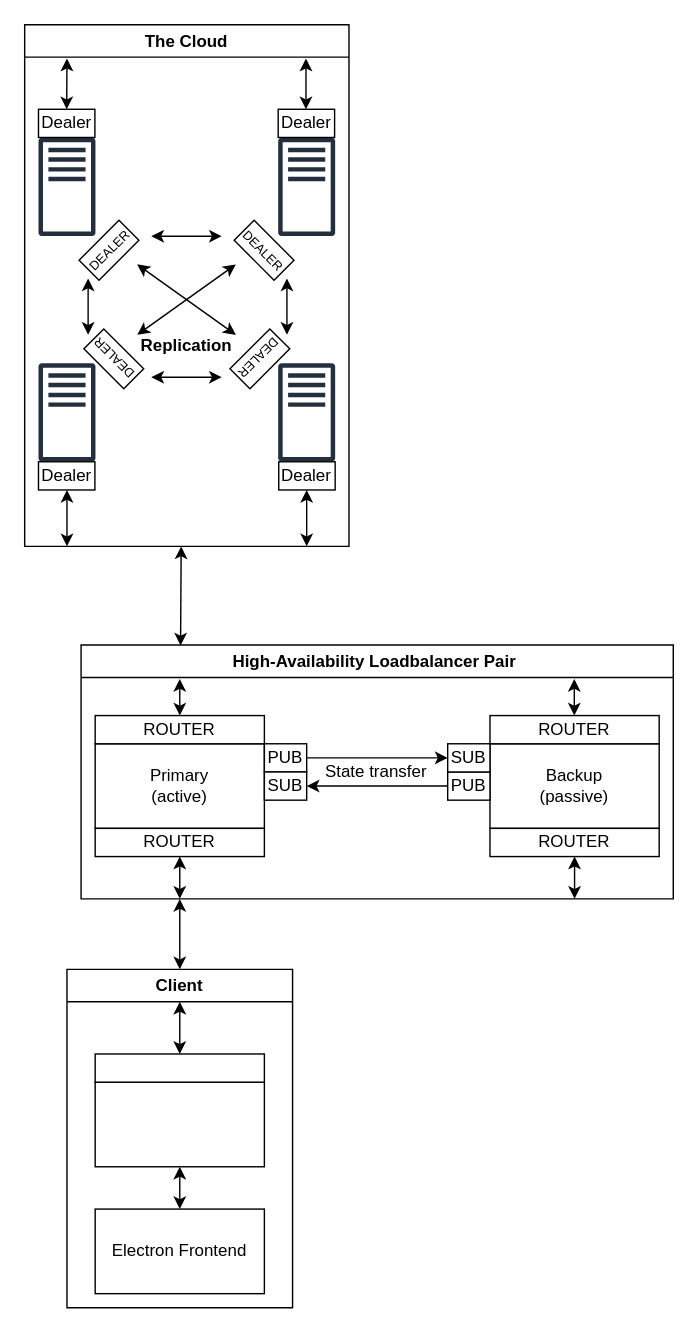
Image size: 698x1332. Some labels were removed from this diagram. The shapes that lost their labels are listed below. From the top down, each one's centre as x and y in pixels, then its label:
the point at 179,1067: REQ
the point at 179,1124: NodeJS Middleware
